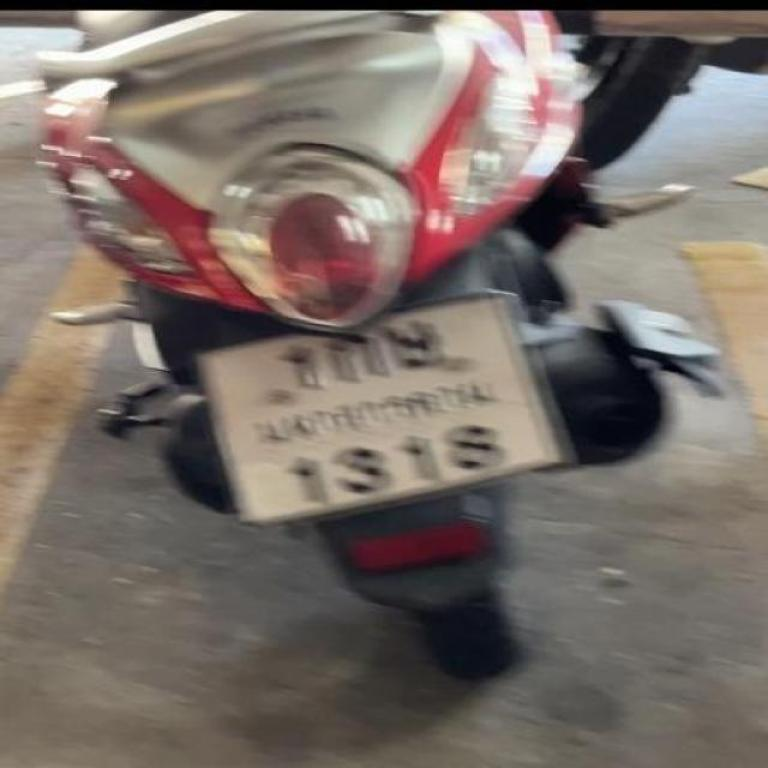license plate: (190, 286, 569, 536)
